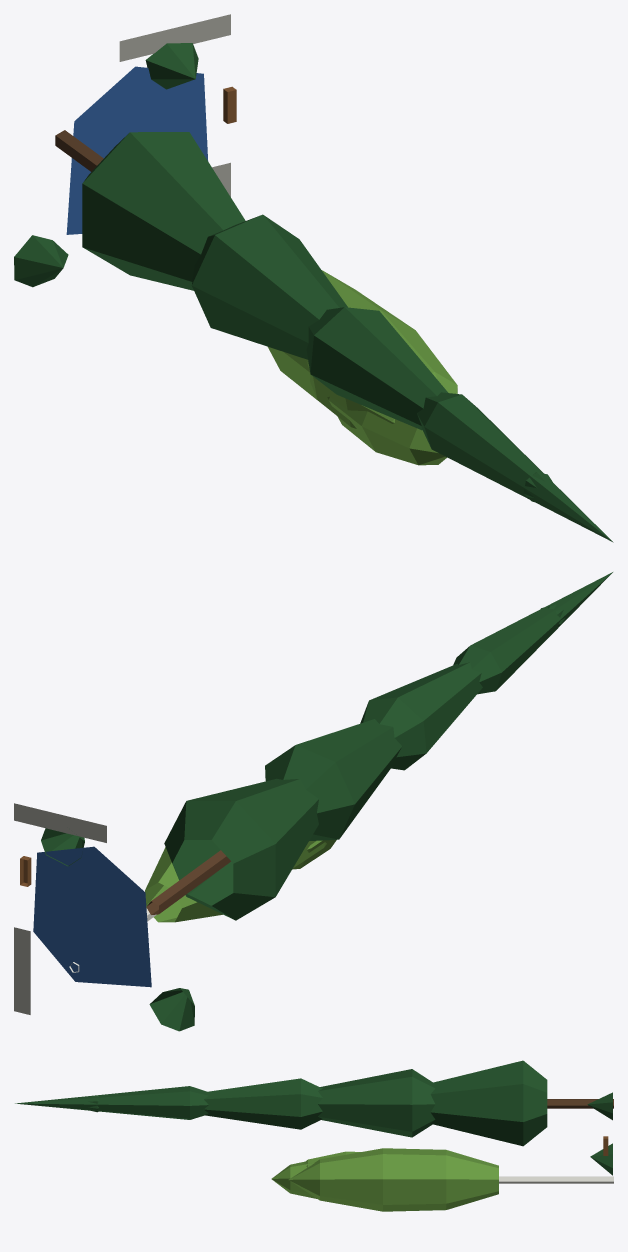
File: complete.glb
3 views of the same model, one above another, from view 1: azimuth 30°, elevation 25°; view 2: azimuth 150°, elevation 25°; view 3: azimuth 270°, elevation 25° (orthographic). The views are drawn at different scales.
Visible parts, largest first — view 1: complete; view 2: complete; view 3: complete.
Boxes of the visible parts, x1,y1,x2,y2 form: complete: (14, 14, 613, 542); complete: (14, 572, 612, 1031); complete: (15, 1060, 613, 1211).
Size of the model in its own units: 15.14 by 15.6 by 62.64.
